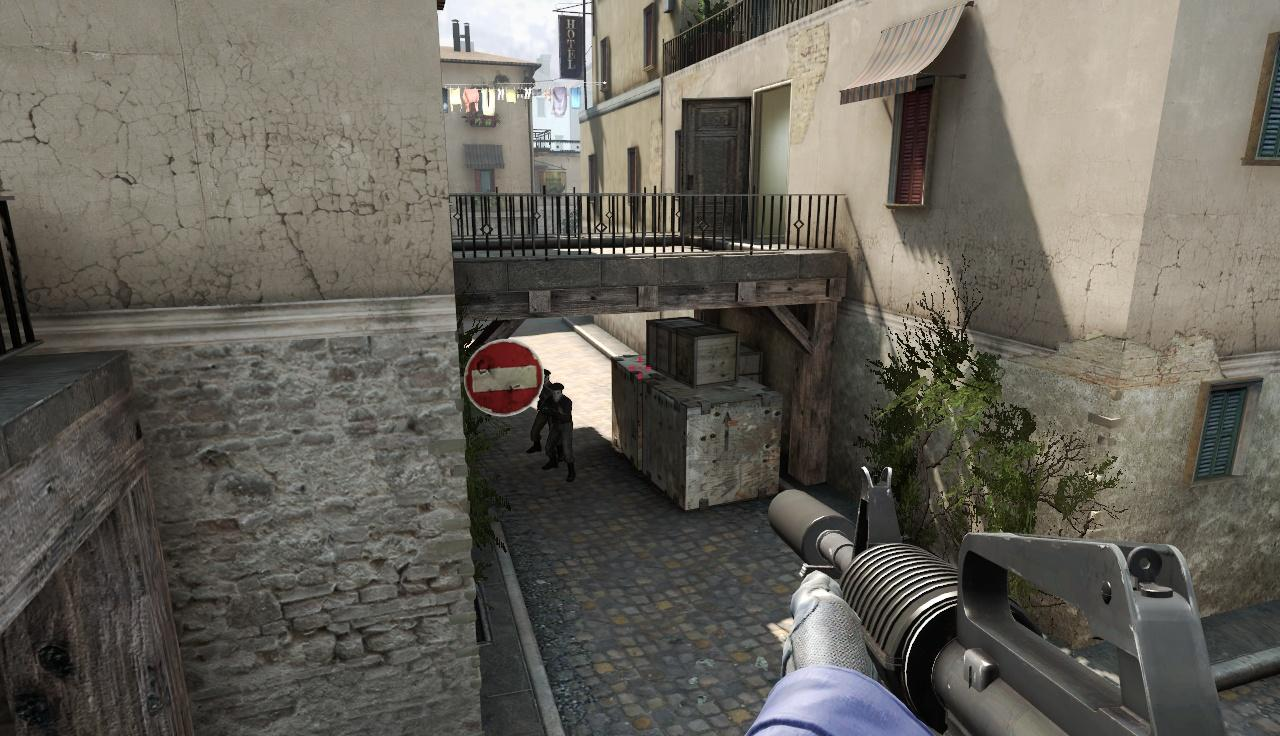rifle: (765, 462, 1240, 736)
tt: (548, 382, 573, 481)
tthead: (551, 383, 564, 401)
